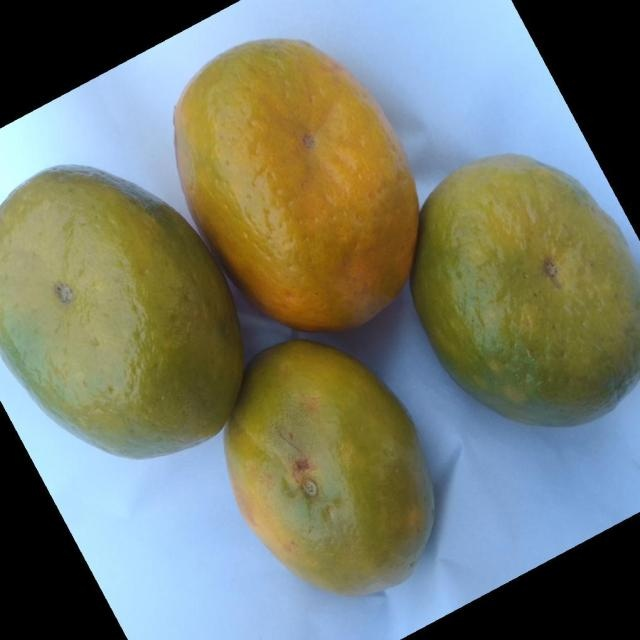agrume: (172, 36, 420, 332), (0, 162, 244, 460), (410, 152, 639, 428), (223, 338, 435, 597)
